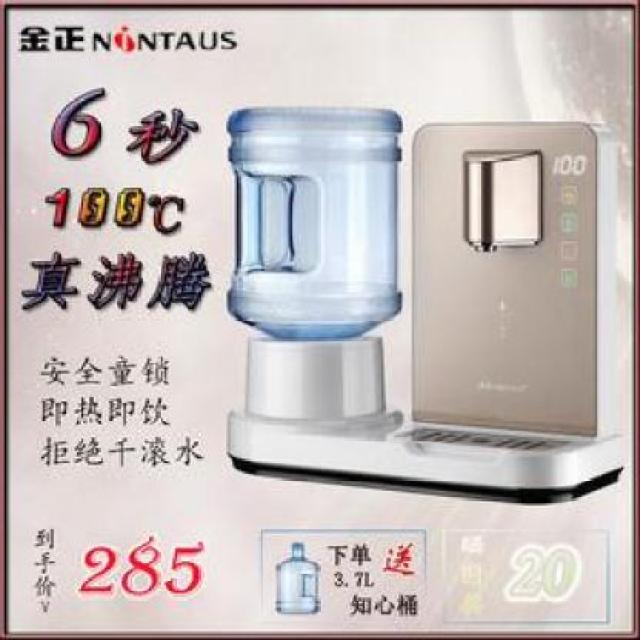cooler: (225, 99, 622, 506)
